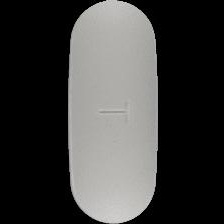43063-459: (0, 0, 224, 224)
